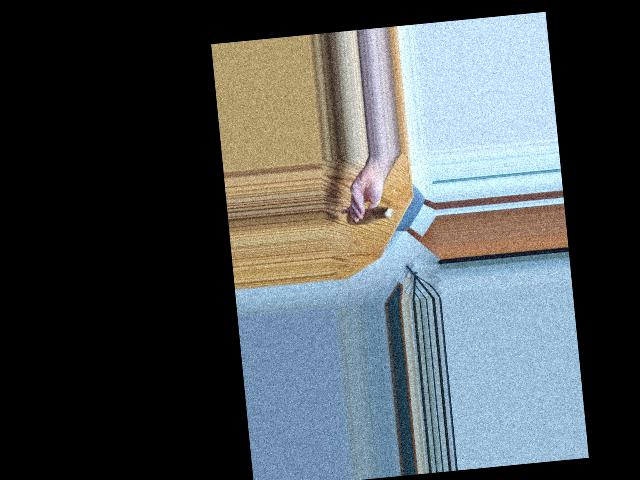sweet_potato: (349, 202, 390, 228)
